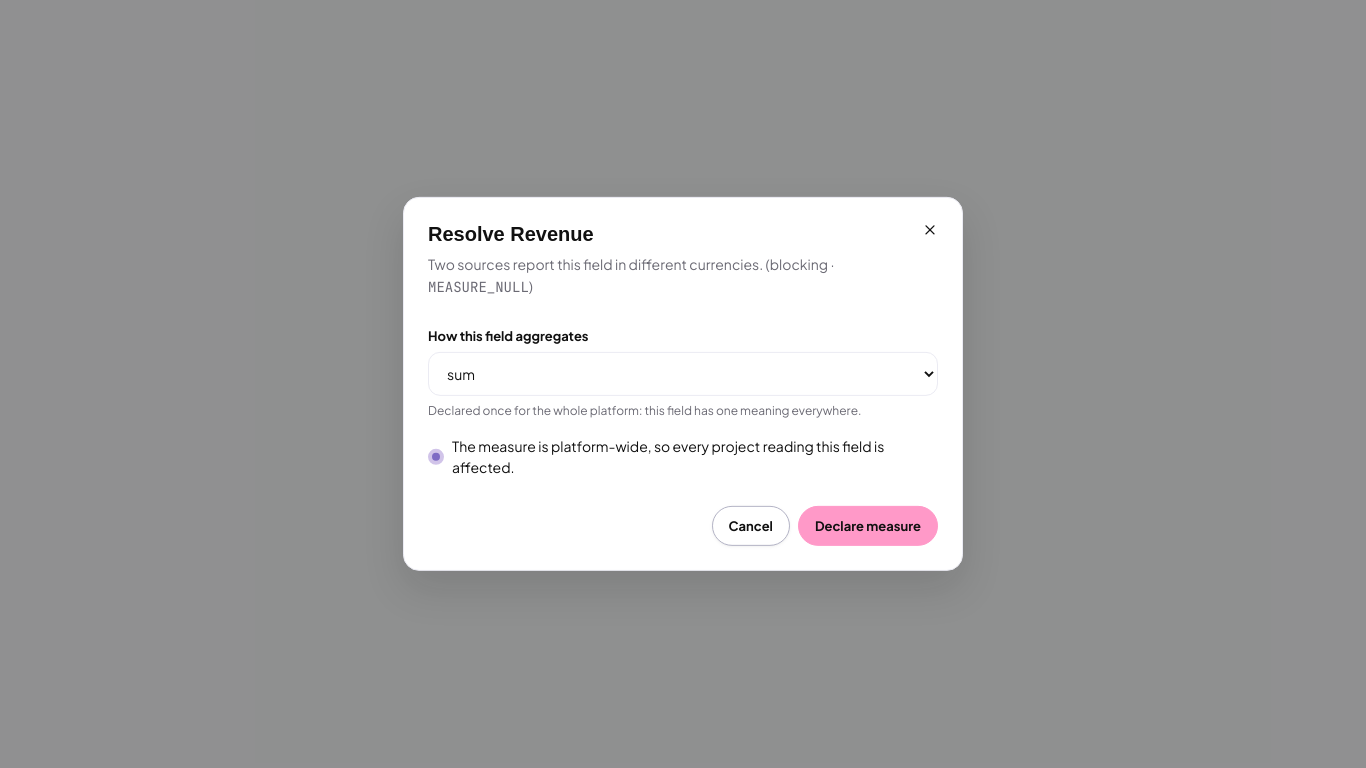
Test: the server's refusal is shown, and the dialog stays open
The image size is (1366, 768).
Click the button "Declare measure".
click(868, 526)  # box [798,506,938,546]
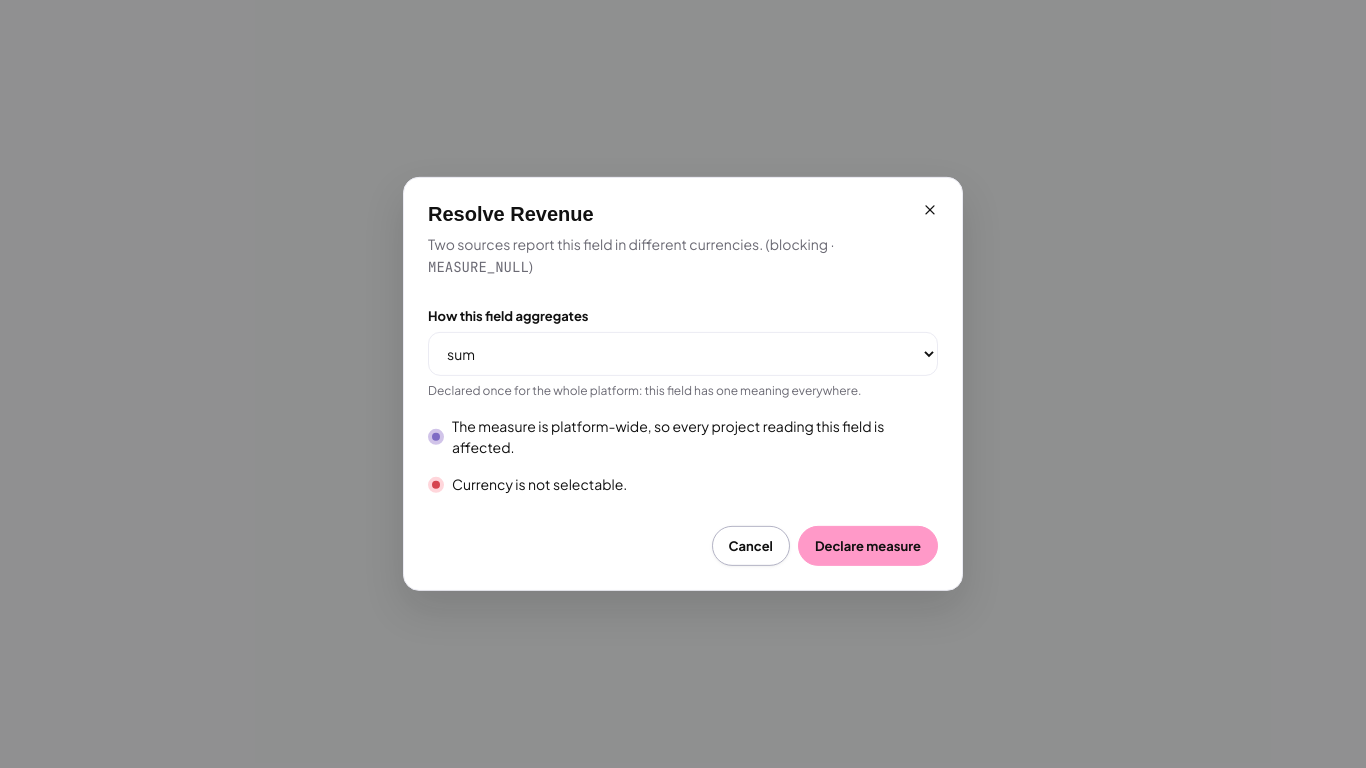
Result: the text "Currency is not selectable." is shown at [452,474,627,495]
